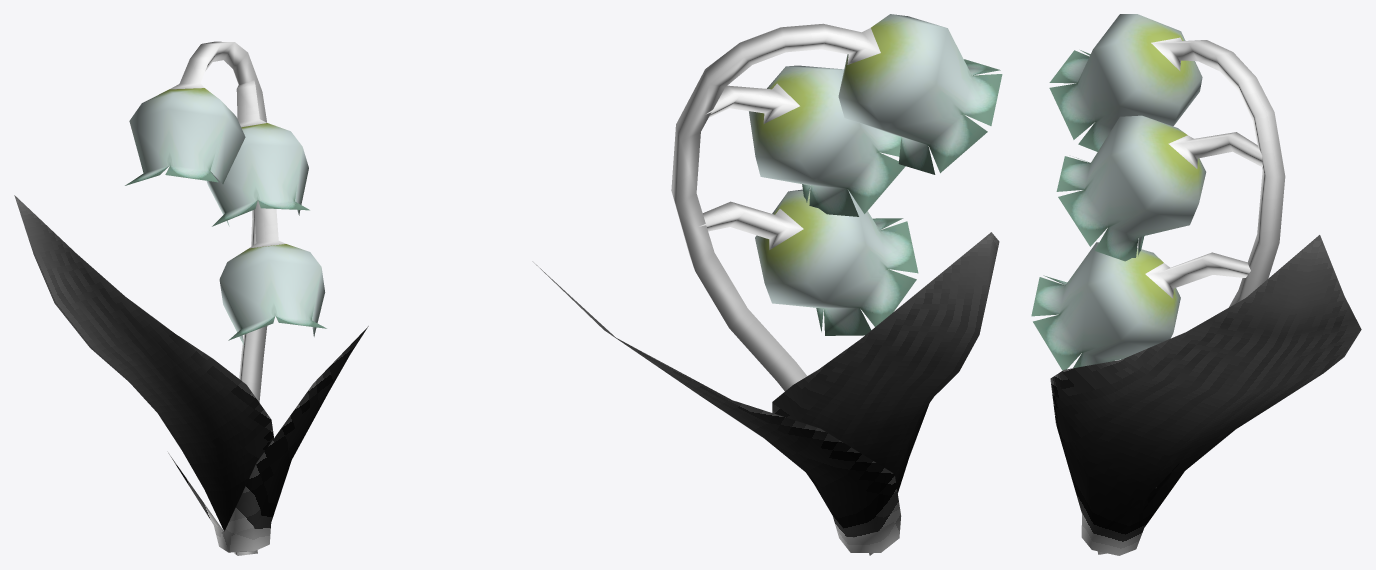
The model's file is PltFlwLily.glb.
3 renders of one model, left to right at view 1: azimuth 30°, elevation 25°; view 2: azimuth 150°, elevation 25°; view 3: azimuth 270°, elevation 25°, orthographic. The views are drawn at different scales.
Parts seen in each view (by area): view 1: pCylinder10__mLilyBody, pCylinder10__mLilyFlower; view 2: pCylinder10__mLilyBody, pCylinder10__mLilyFlower; view 3: pCylinder10__mLilyBody, pCylinder10__mLilyFlower.
Part boxes in pixels (x1,y1,x2,y2): pCylinder10__mLilyBody: (14, 41, 368, 555); pCylinder10__mLilyFlower: (125, 88, 326, 344); pCylinder10__mLilyBody: (532, 23, 999, 555); pCylinder10__mLilyFlower: (749, 14, 1002, 335); pCylinder10__mLilyBody: (1050, 37, 1361, 555); pCylinder10__mLilyFlower: (1031, 14, 1206, 370).
Bounding box in the file's own units: 6.19 × 6.78 × 3.96.
2 materials, 2 textured.
